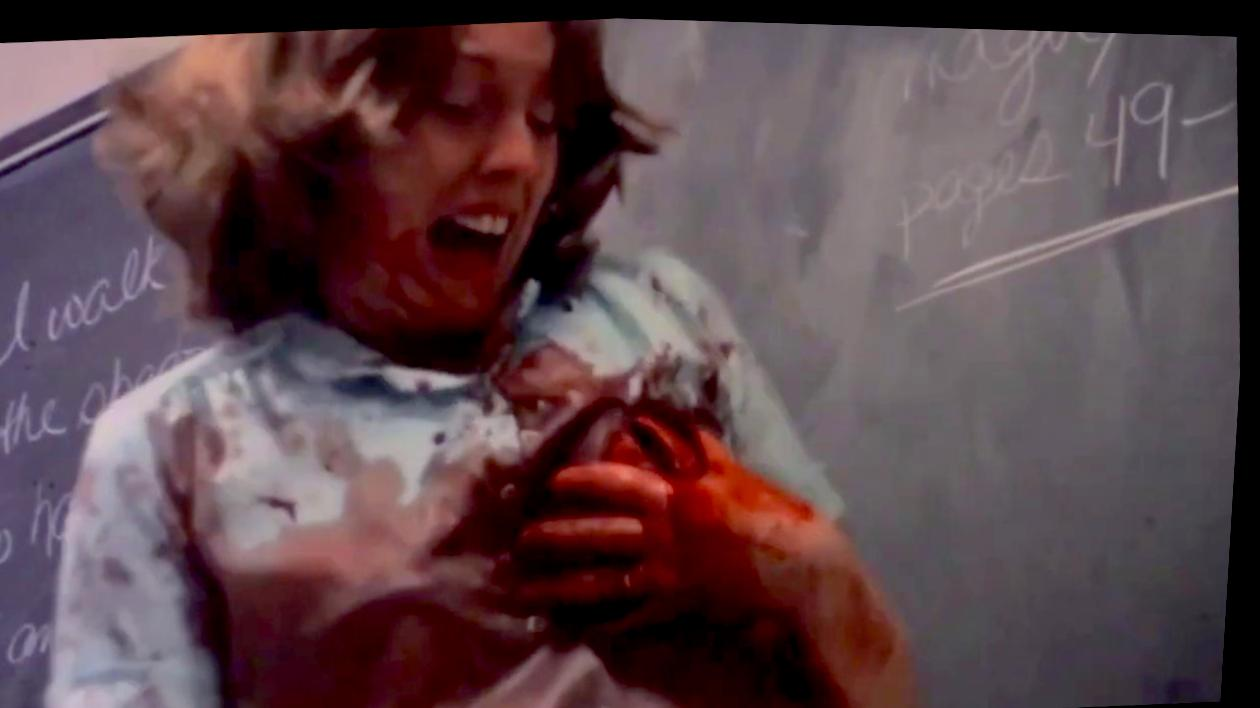Fire: (78, 161, 927, 708)
